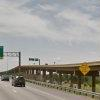Bridge: (11, 55, 99, 78)
